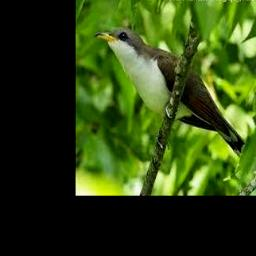Cuckoo: (95, 28, 256, 175)
